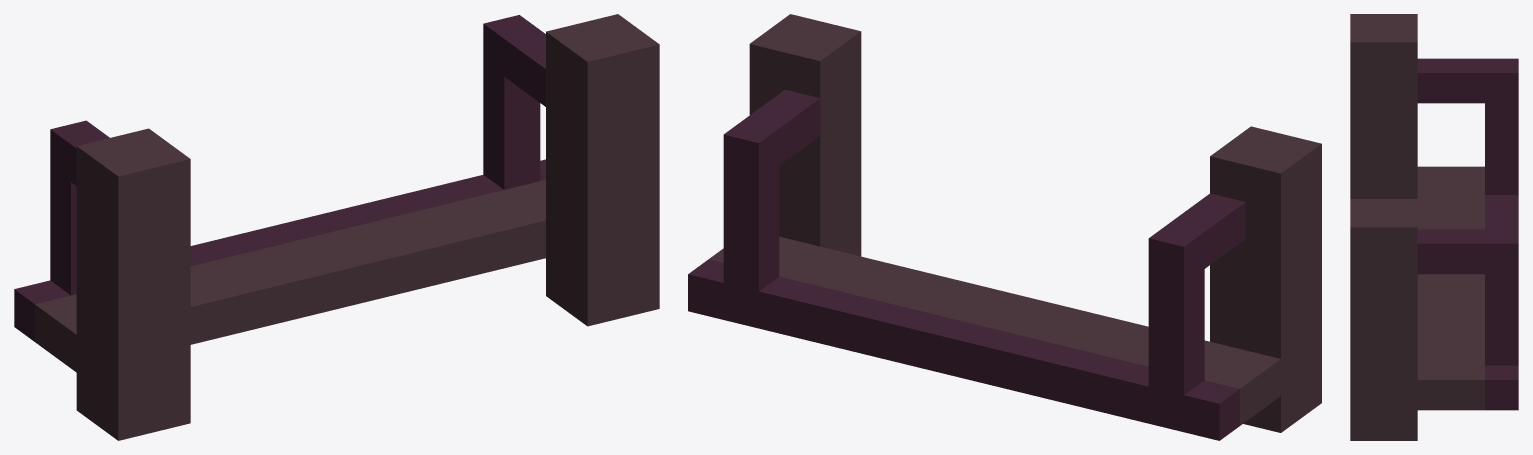
File: bridge_c_start.obj
The picture shows the model from 3 angles, left to right: view 1: azimuth 30°, elevation 25°; view 2: azimuth 150°, elevation 25°; view 3: azimuth 270°, elevation 25°; orthographic projection. The views are drawn at different scales.
Size of the model in its own units: 1.5 by 0.7 by 0.5.
1 material, 1 textured.
